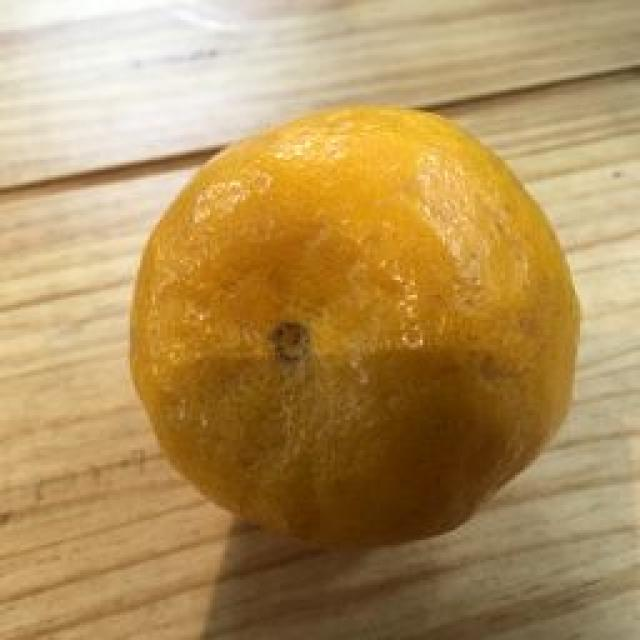Wet: (117, 92, 585, 542)
